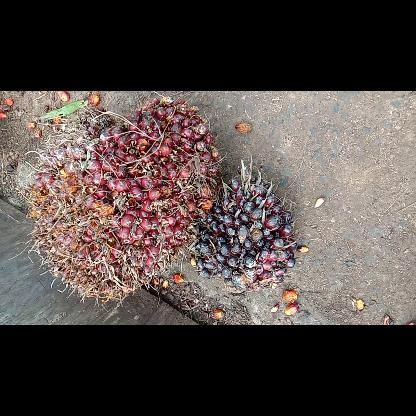TBS abnormal: (189, 154, 297, 292)
TBS masak: (27, 96, 219, 306)
